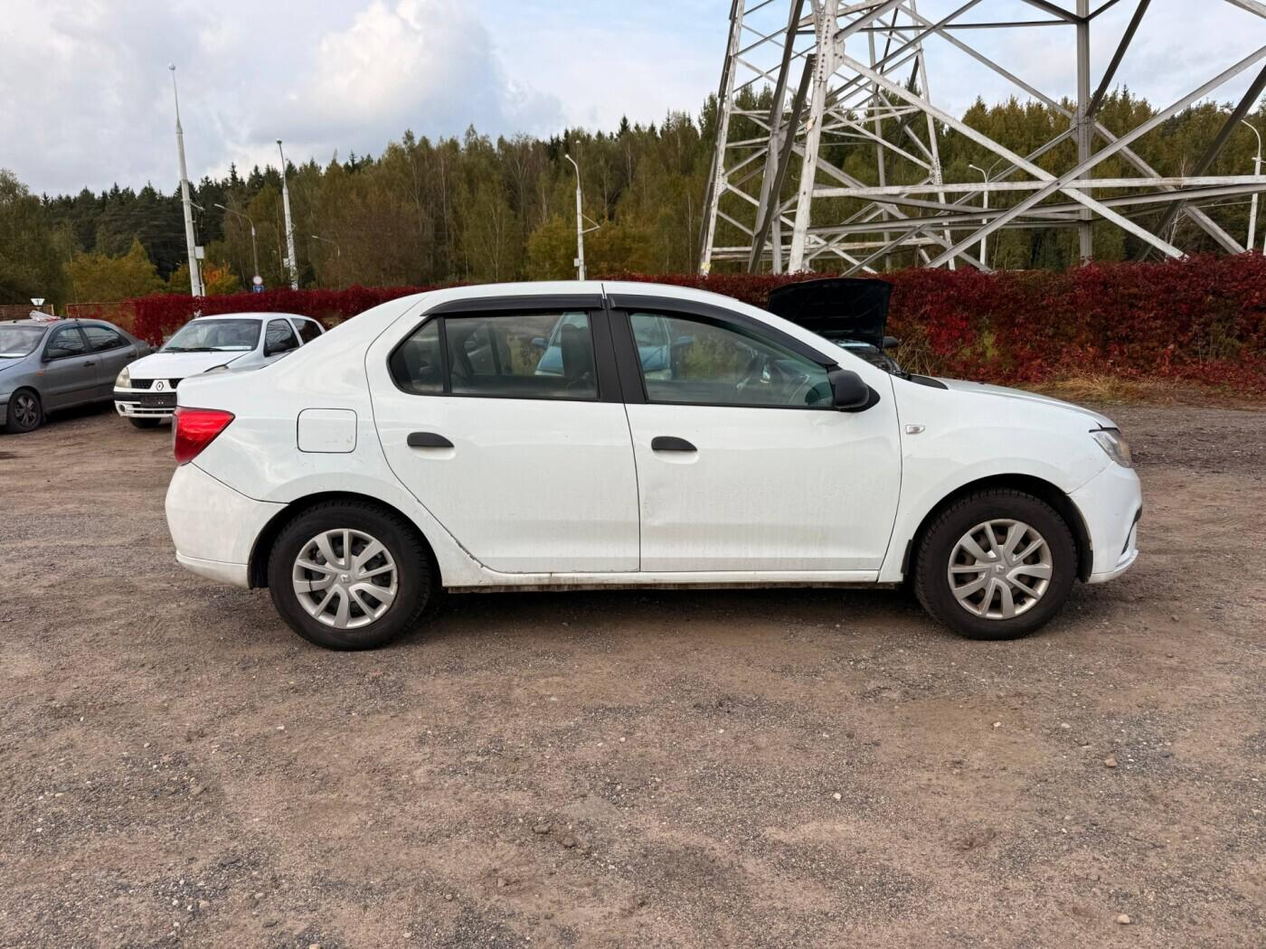Logan_2018: (168, 269, 1145, 658)
